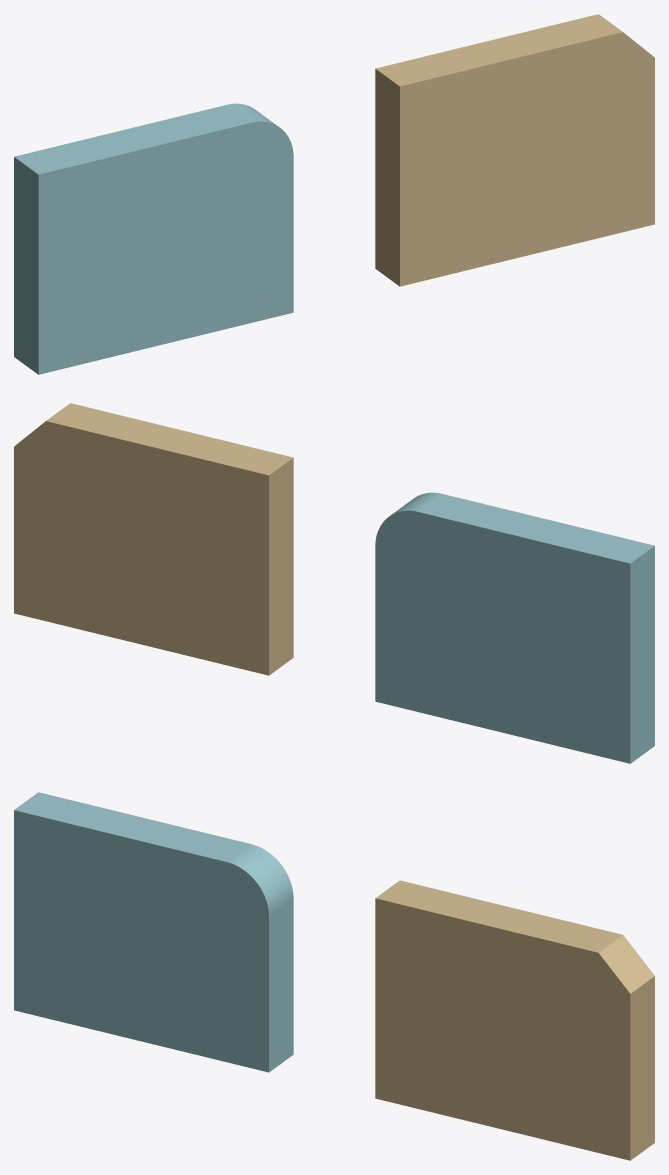
The model's file is assembly.glb.
The picture shows the model from 3 angles, top to bottom: view 1: azimuth 30°, elevation 25°; view 2: azimuth 150°, elevation 25°; view 3: azimuth 330°, elevation 25°; orthographic projection.
Visible parts, largest first — view 1: rounded_corner, beveled_corner; view 2: rounded_corner, beveled_corner; view 3: rounded_corner, beveled_corner.
Boxes of the visible parts, x1,y1,x2,y2 form: rounded_corner: (14,103,293,374); beveled_corner: (375,14,654,286); rounded_corner: (375,492,654,763); beveled_corner: (14,403,293,675); rounded_corner: (14,792,293,1072); beveled_corner: (375,880,654,1160).
Bounding box in the file's own units: 0.058 × 0.018 × 0.004.
